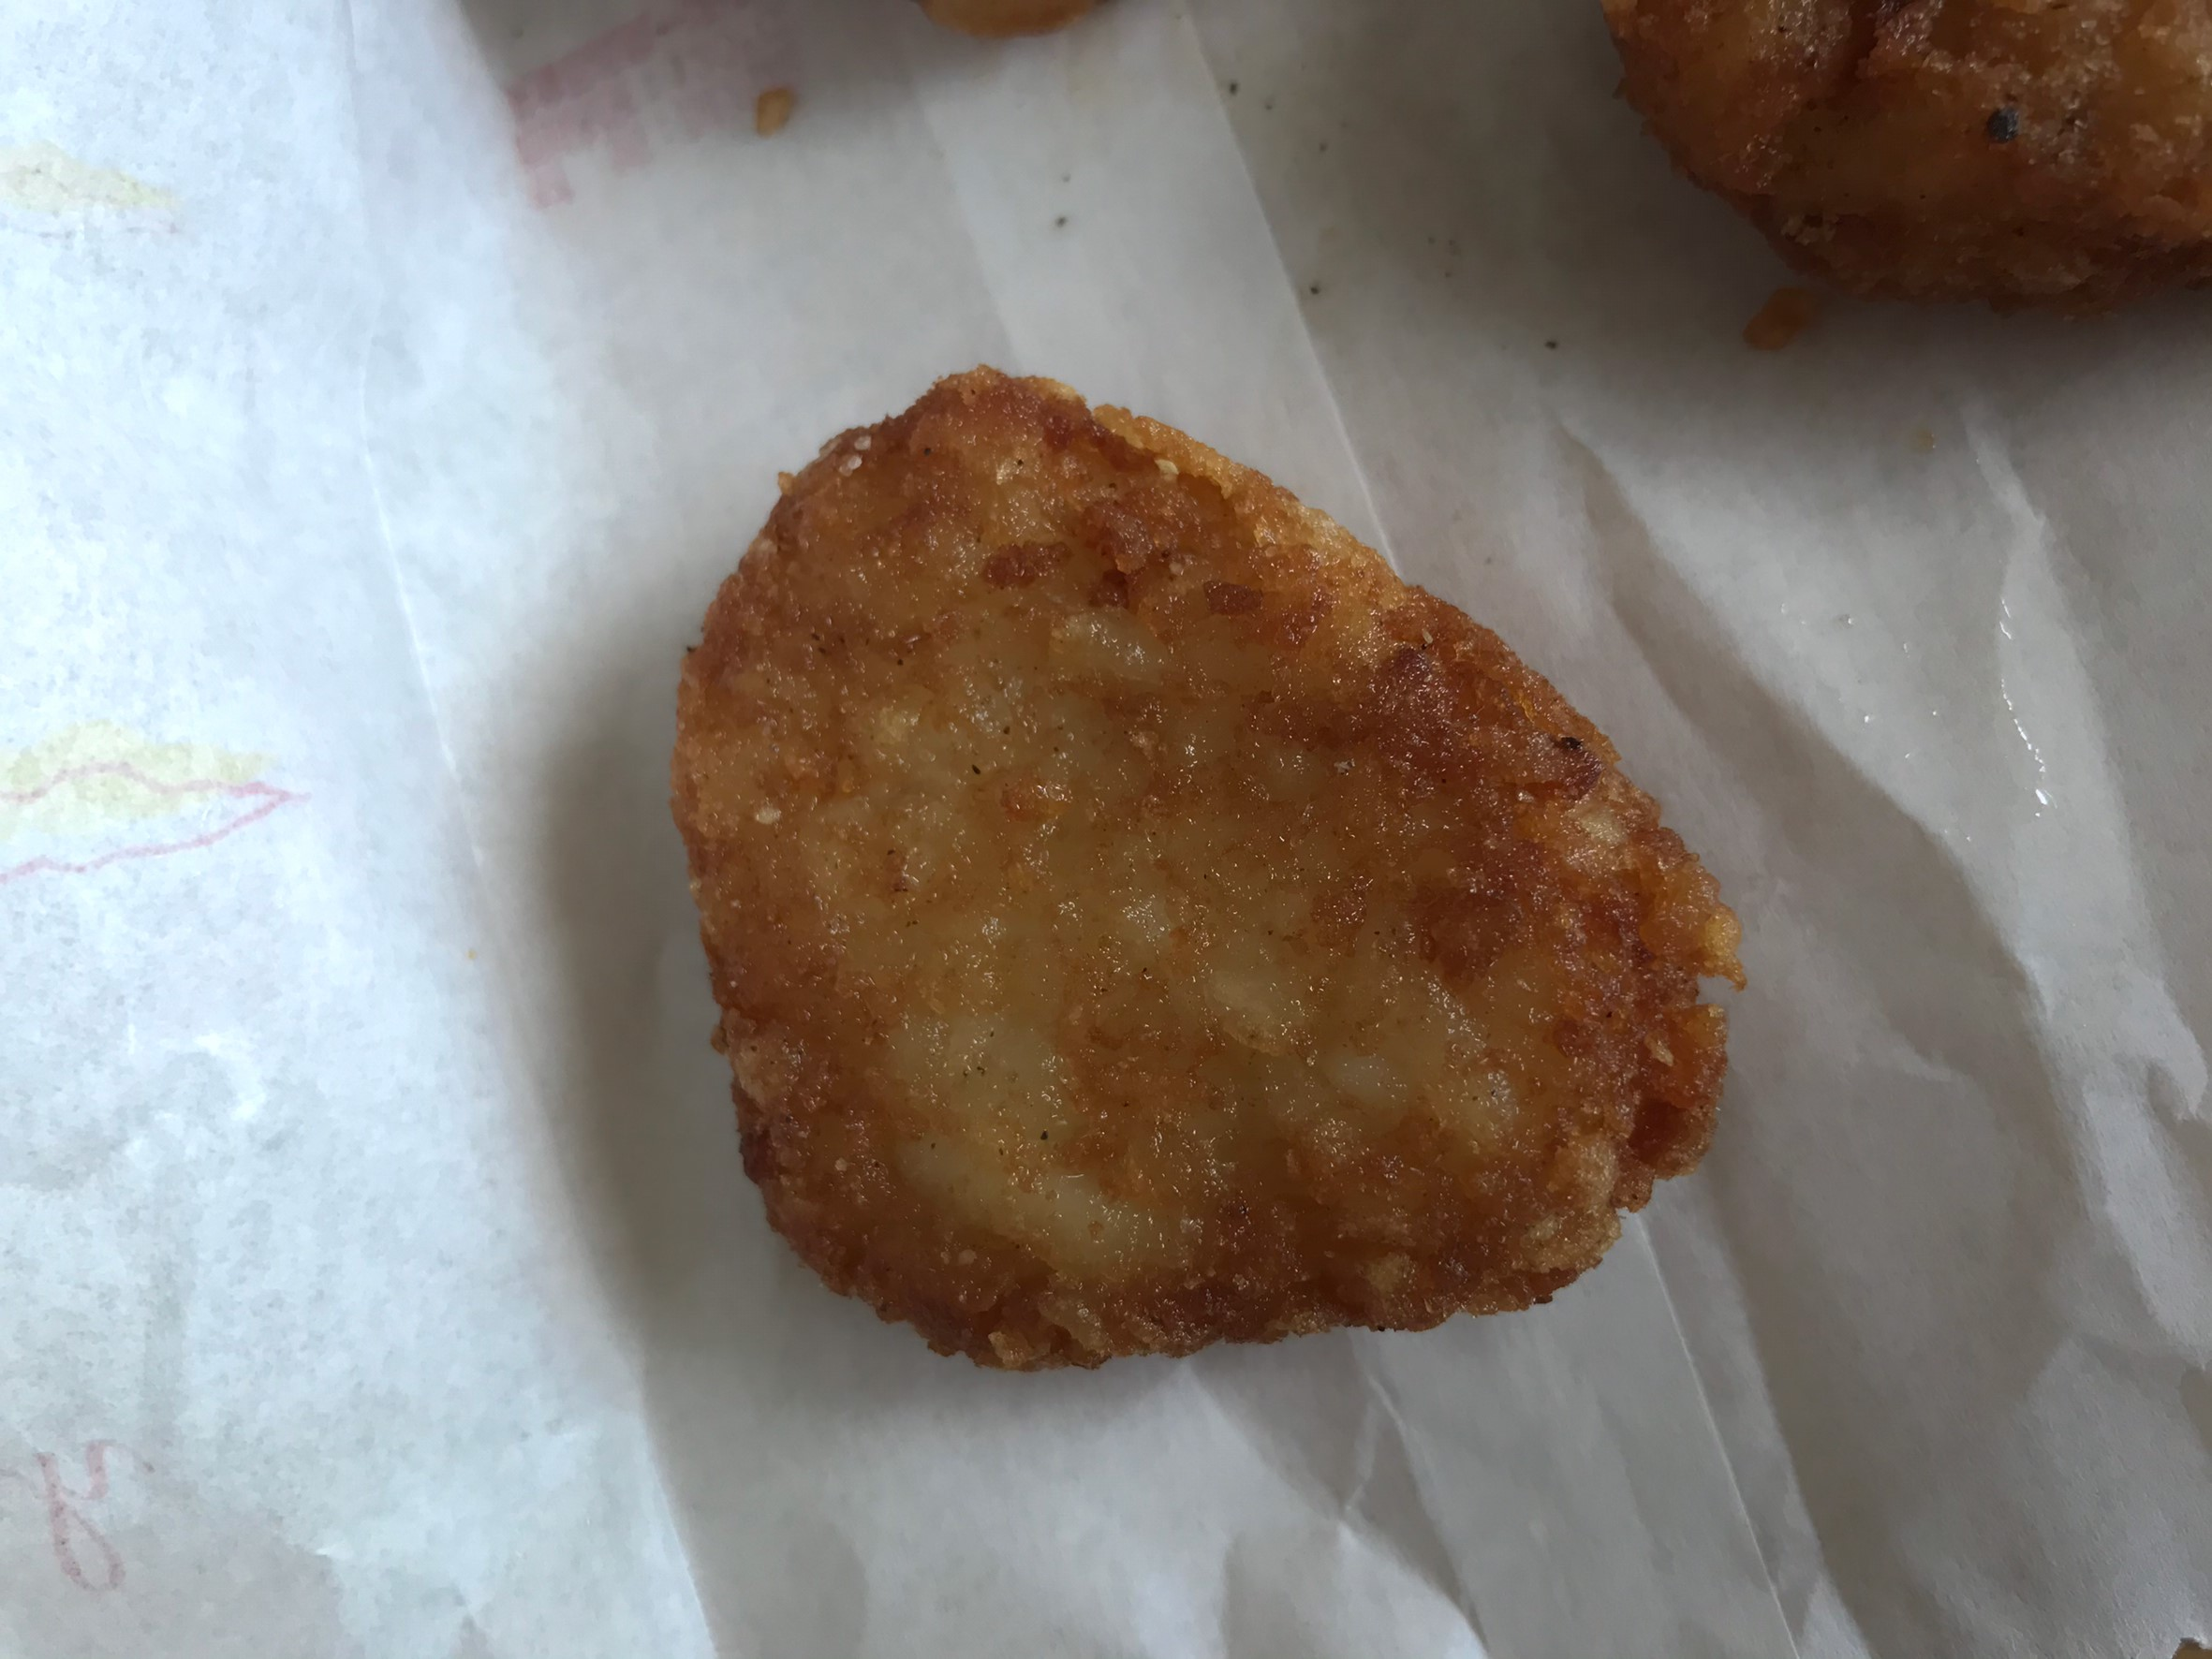triangle_hash_brown: (655, 347, 1780, 1392)
